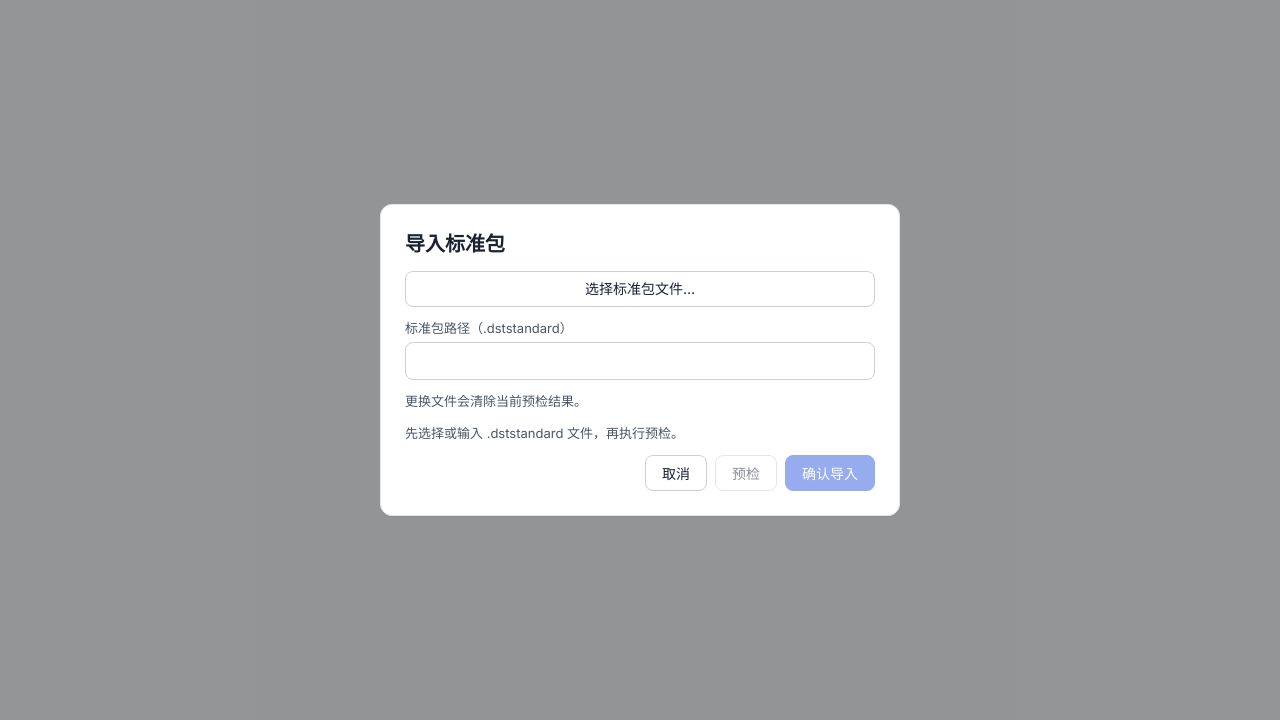
StandardImportDialog › 确认失败（预检后库状态变化）保留候选详情并要求重新预检
Click the button with test id "import-choose-file". click: [640, 289]
box: left=405, top=271, right=875, bottom=307
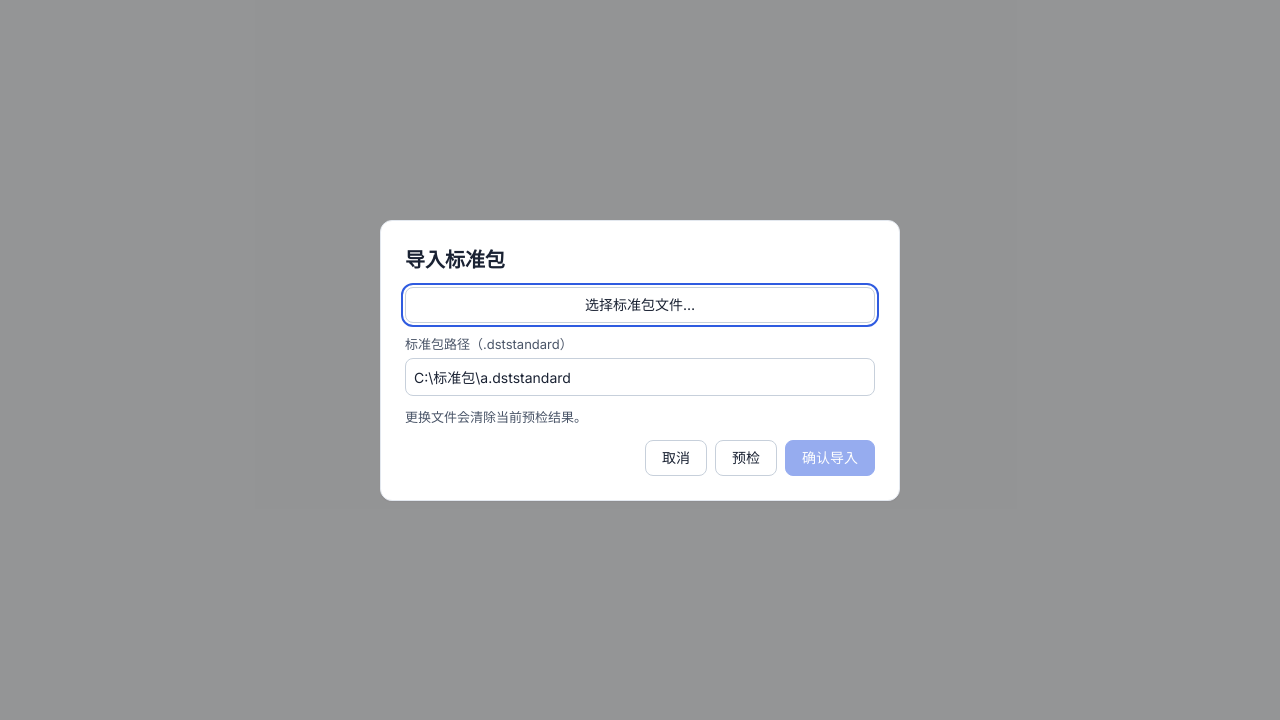
Click the button with test id "import-preview-button". click: [746, 458]
box: left=715, top=440, right=777, bottom=476
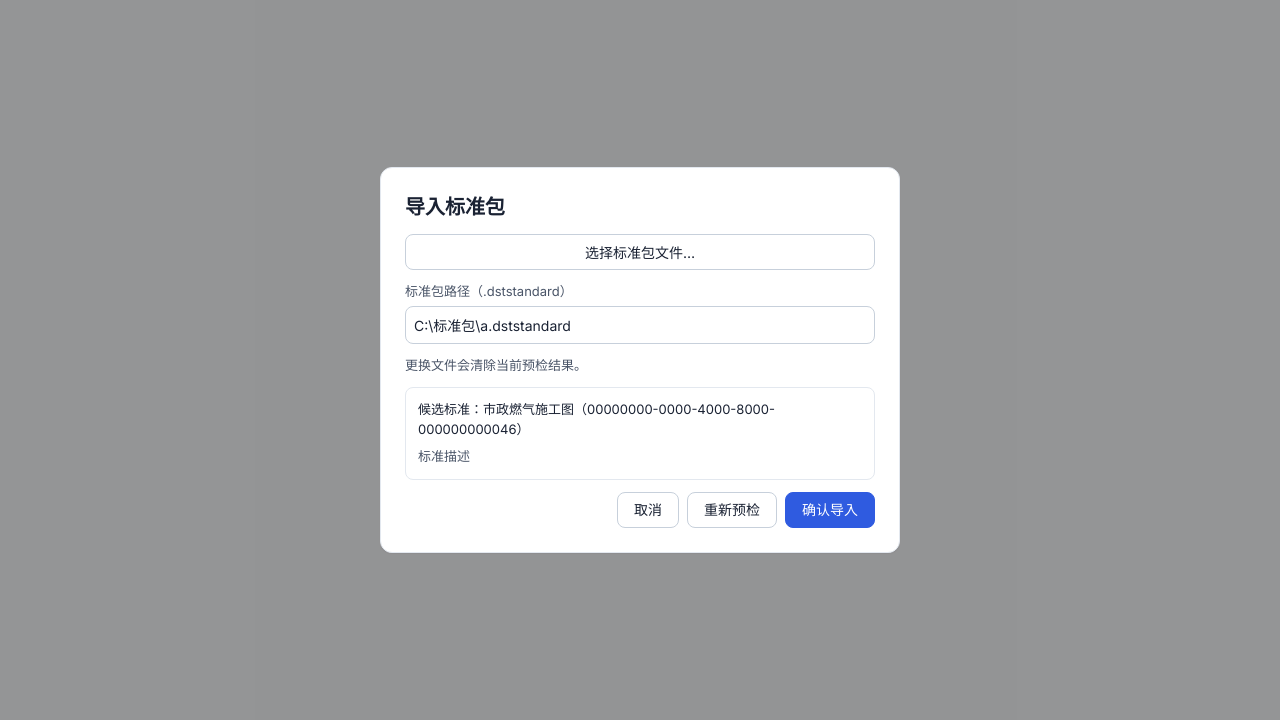
Click the button with test id "import-confirm-button". click: [830, 510]
box: left=785, top=492, right=875, bottom=528
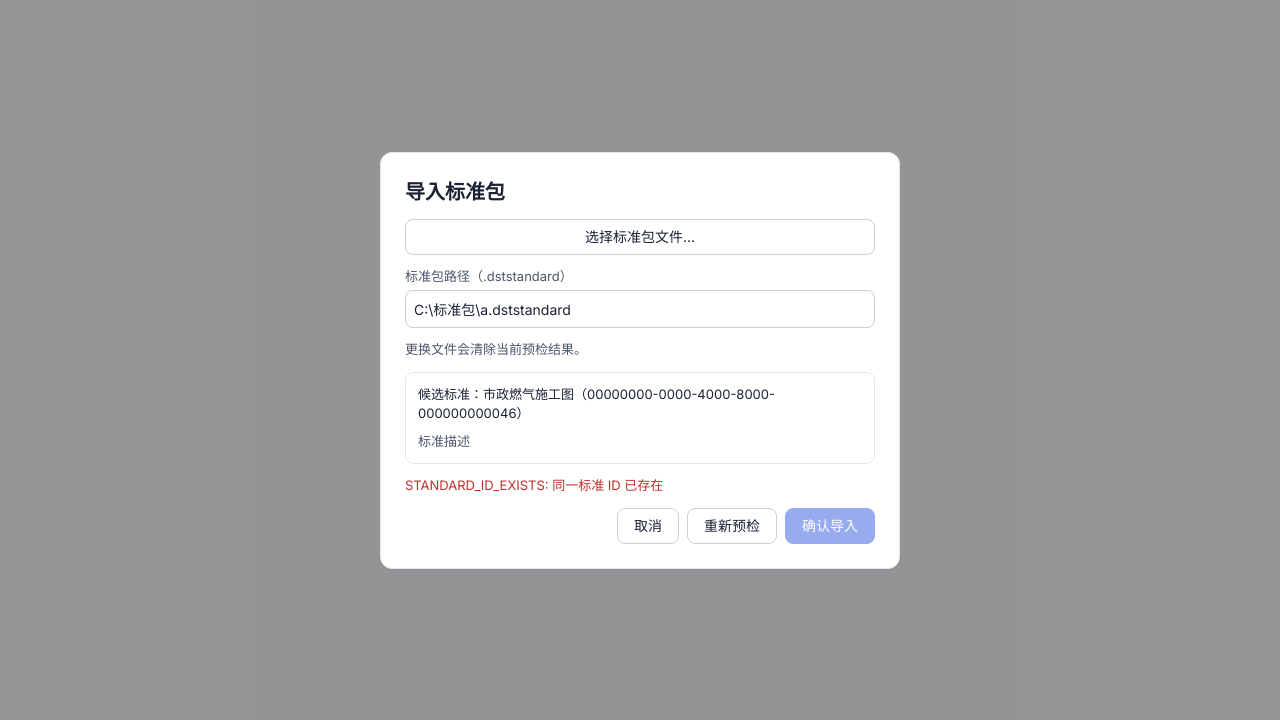
Now the field with test id "import-selected-path" holds "C:\\标准包\\a.dststandard", box left=405, top=290, right=875, bottom=328
Now the element with test id "import-preview" shows "市政燃气施工图", box left=418, top=386, right=775, bottom=421
Now the message with test id "import-error" shows "STANDARD_ID_EXISTS", box left=405, top=477, right=663, bottom=493
Click the button with test id "import-preview-button". click: [732, 526]
box: left=687, top=508, right=777, bottom=544
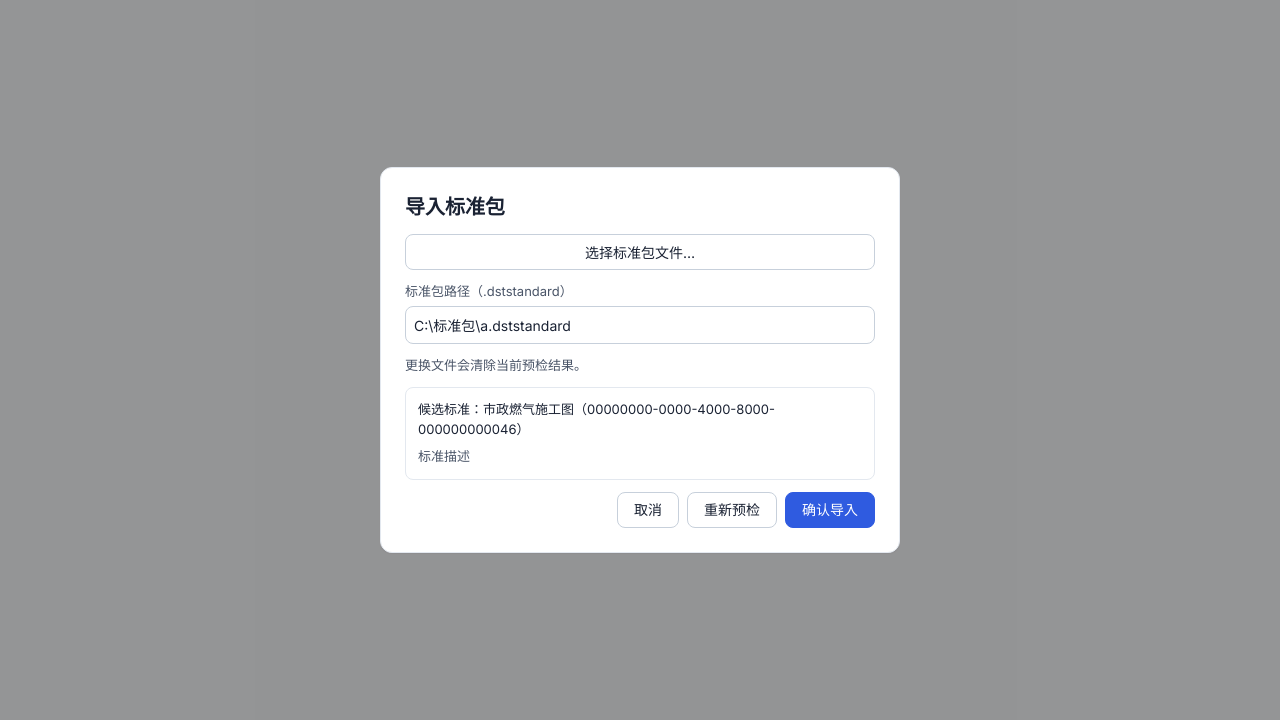
Now the button with test id "import-confirm-button" is enabled, box left=785, top=492, right=875, bottom=528
